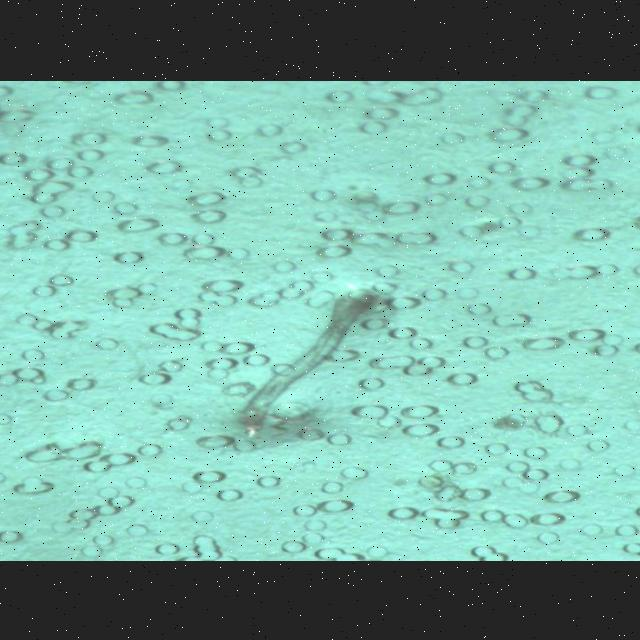Fibre: (228, 282, 392, 446)
